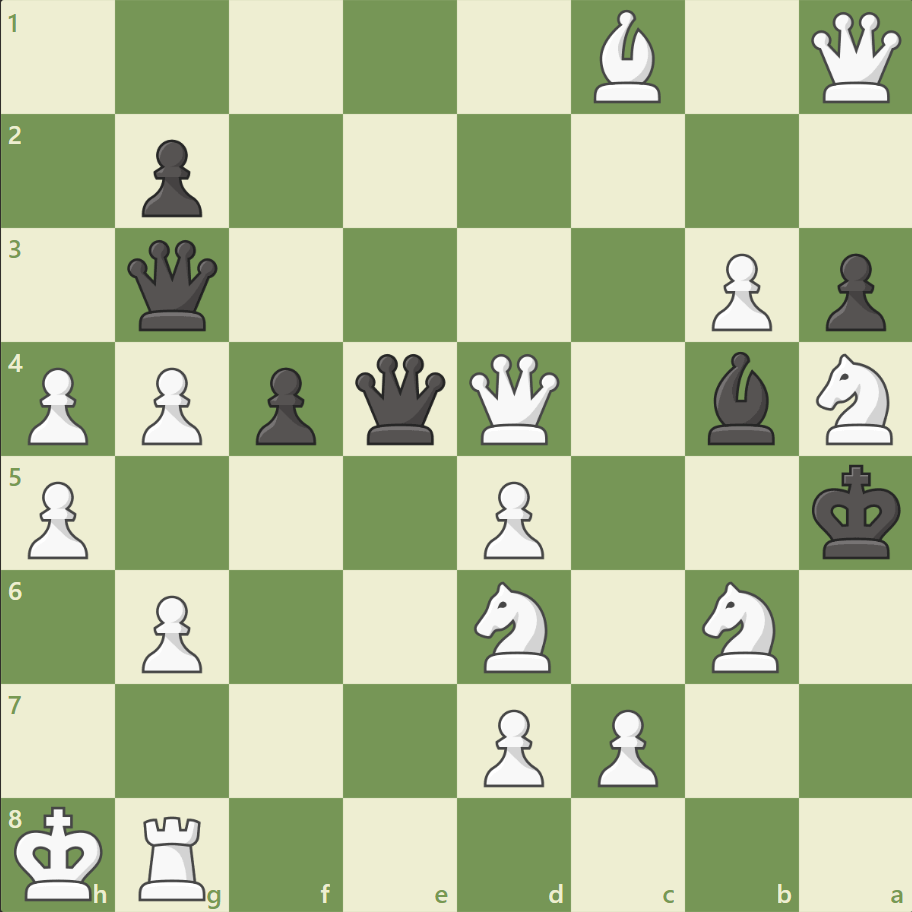B: (585, 6, 669, 109)
K: (11, 798, 111, 906)
N: (692, 575, 789, 677), (465, 575, 562, 677), (806, 348, 903, 450)
P: (474, 700, 549, 791), (133, 586, 208, 677), (474, 473, 549, 564), (20, 473, 95, 564), (133, 359, 208, 450), (20, 359, 95, 450), (701, 246, 776, 337), (588, 700, 662, 791)
Q: (464, 349, 563, 449), (805, 9, 904, 108)
R: (133, 806, 215, 904)
b: (698, 347, 782, 449)
k: (806, 458, 906, 566)
p: (247, 359, 322, 450), (133, 132, 208, 223), (815, 246, 889, 337)
q: (351, 349, 450, 449), (124, 236, 223, 335)
